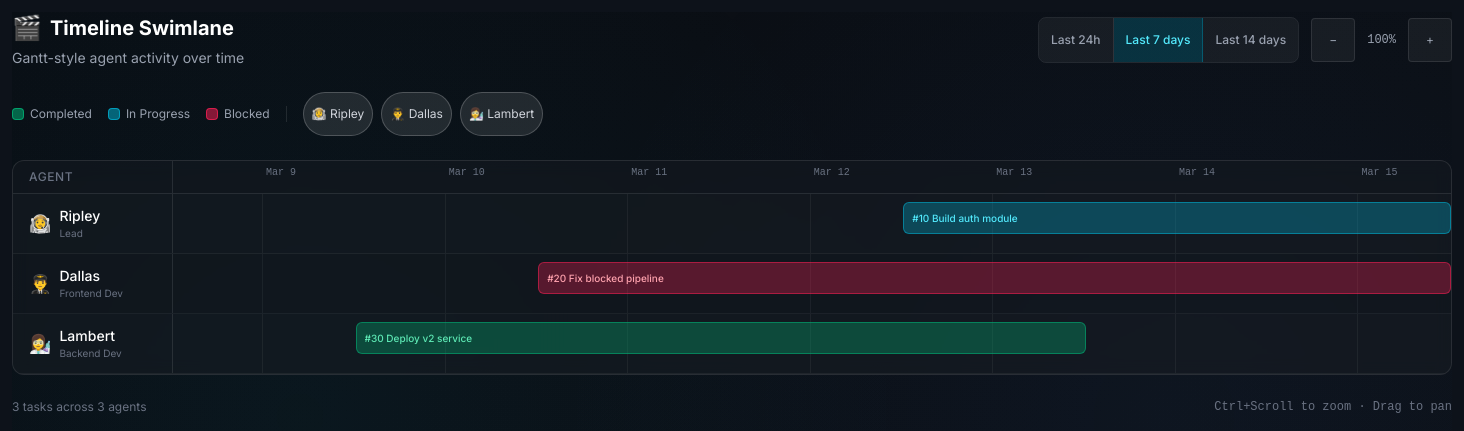
Test: TimelineSwimlane › shows re-enabled agent after toggle on
Click the button "🧑‍🚀 Ripley". click: click(338, 114)
box: [303,92,373,136]
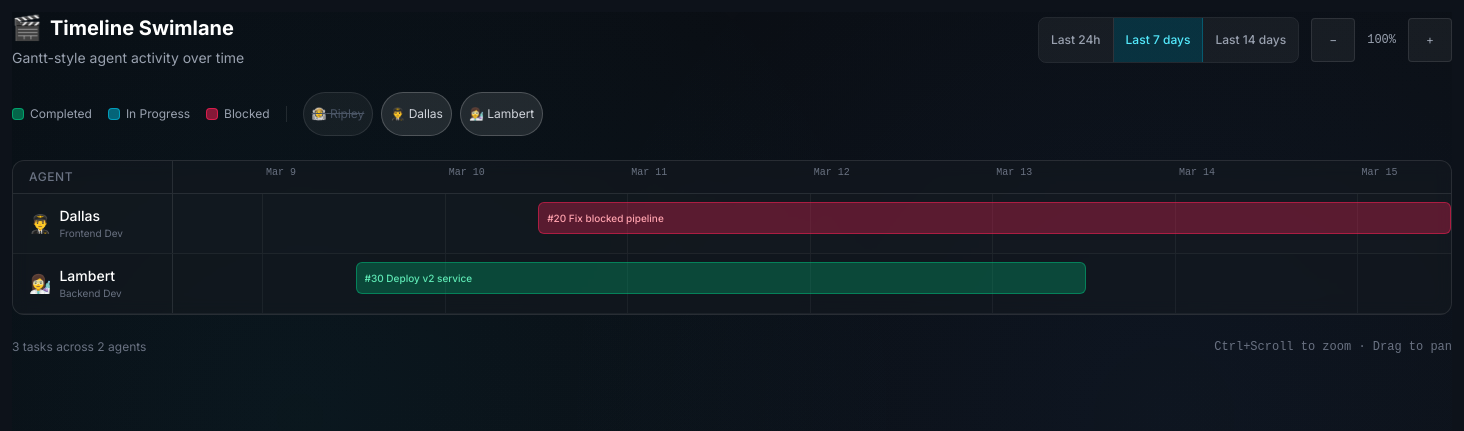
Expected: the element with test id "swimlane-ripley" is gone
Click the button "🧑‍🚀 Ripley". click: click(338, 114)
box: [303,92,373,136]
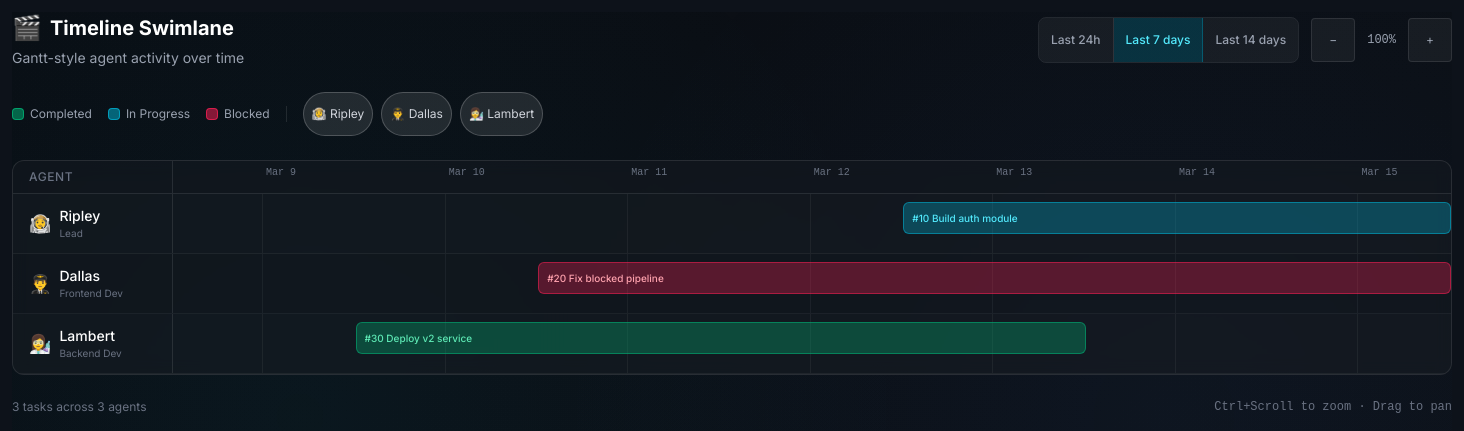
Expected: the element with test id "swimlane-ripley" is shown, [13,194,1451,254]
